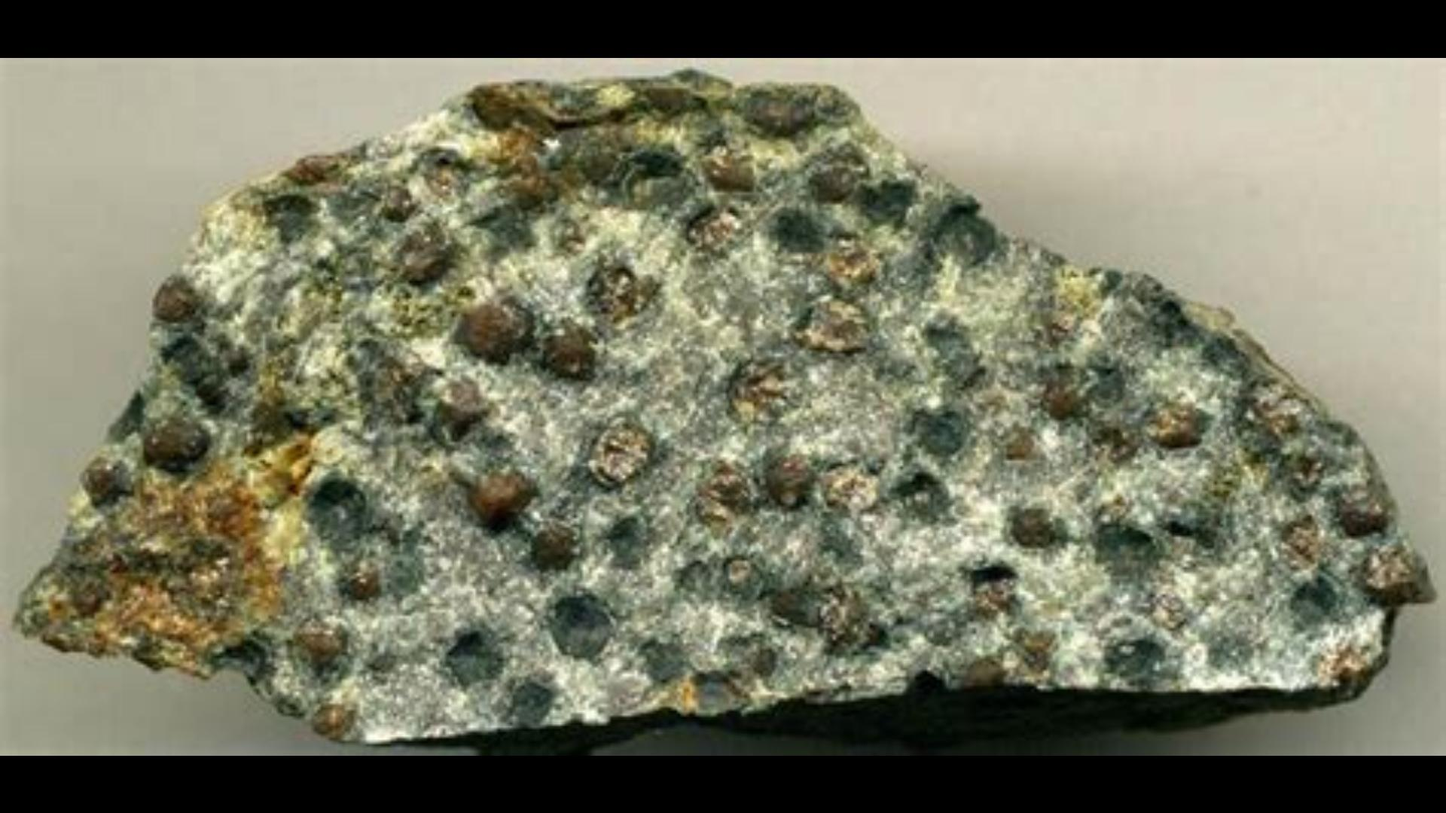rock: (15, 72, 1428, 737)
